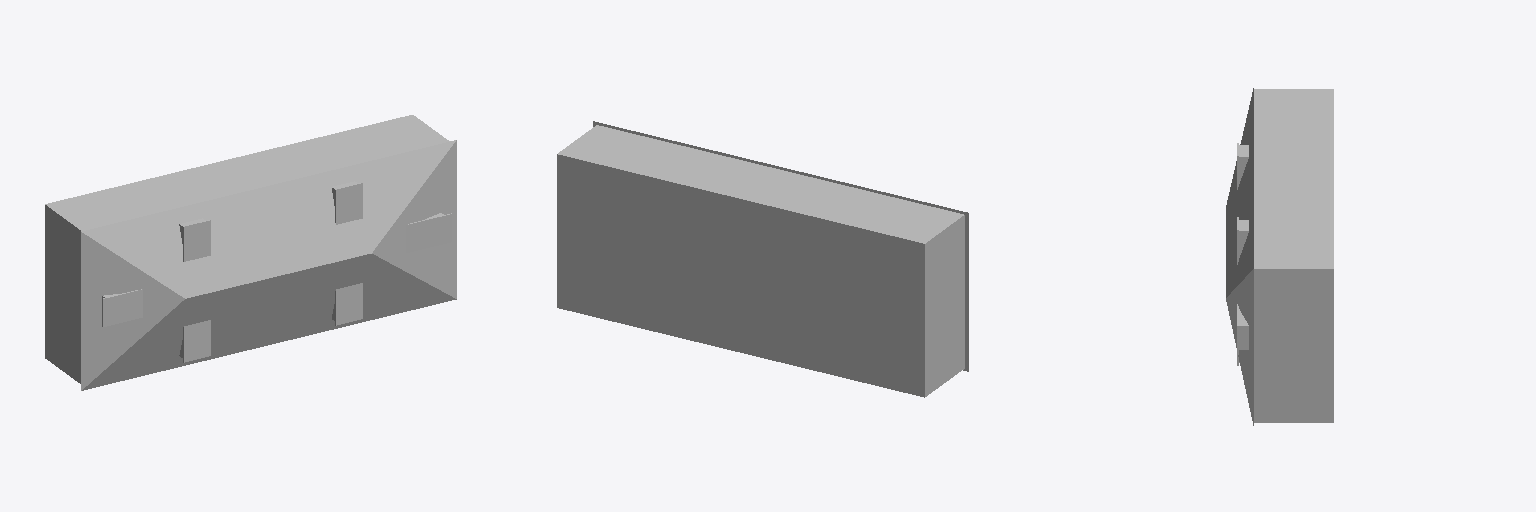
File: zelhouse.obj
3 renders of one model, left to right at view 1: azimuth 30°, elevation 25°; view 2: azimuth 150°, elevation 25°; view 3: azimuth 270°, elevation 25°, orthographic.
Parts seen in each view (by area): view 1: Box03, Box01; view 2: Box01, Box03; view 3: Box01, Box03.
Boxes of the visible parts, <box> form: Box03: <box>81,140,456,390</box>; Box01: <box>45,115,449,383</box>; Box01: <box>557,125,964,397</box>; Box03: <box>593,121,968,371</box>; Box01: <box>1239,89,1333,422</box>; Box03: <box>1226,88,1253,425</box>.
Size of the model in its own units: 184 by 74.7 by 46.07.